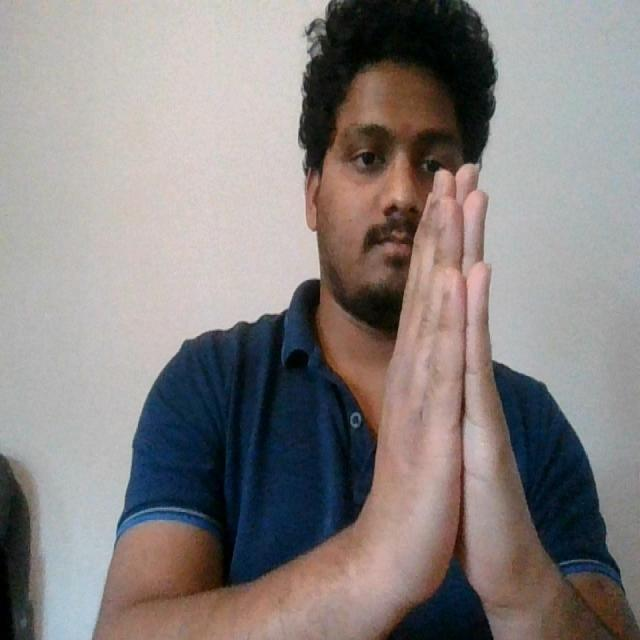Thanks: (354, 150, 558, 632)
